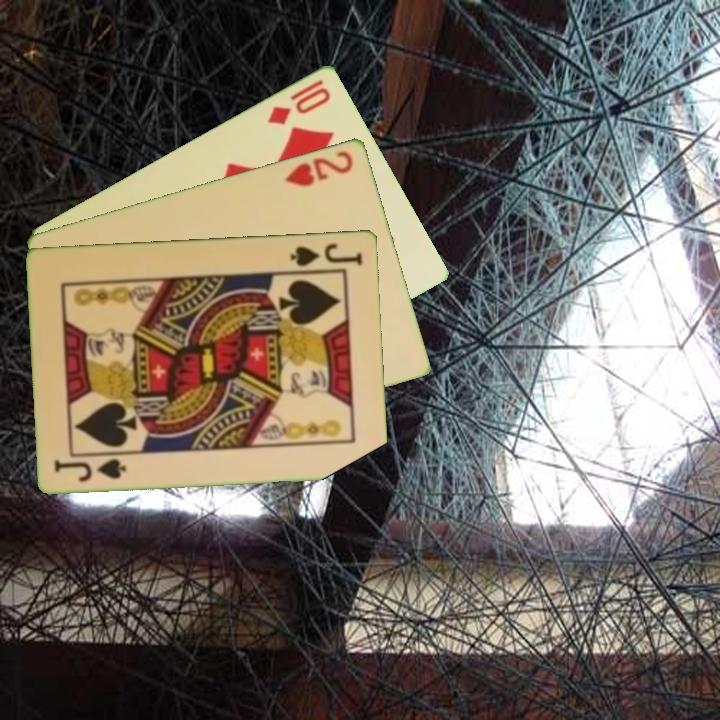10d: (264, 75, 334, 127)
2h: (281, 147, 357, 189)
Js: (287, 239, 366, 269), (51, 454, 129, 484)
